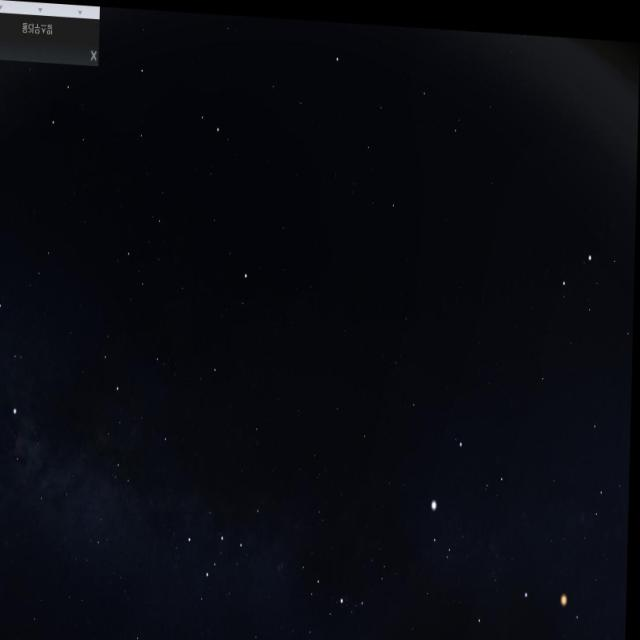cassiopeia: (181, 469, 275, 604)
